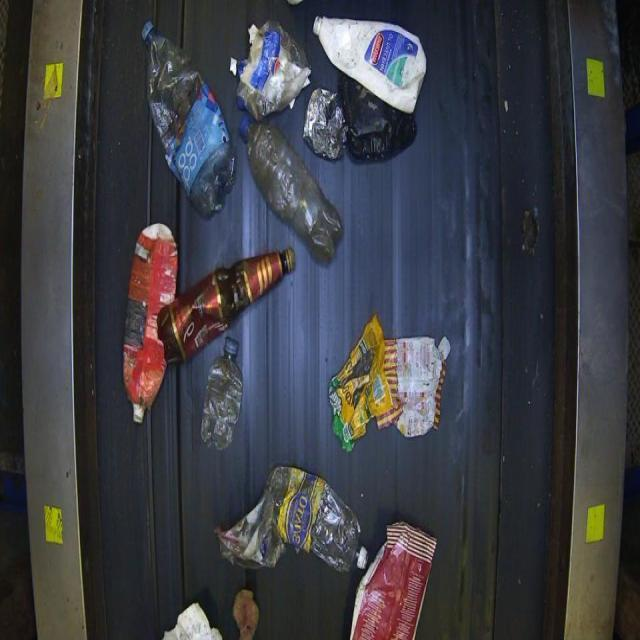bottles: (238, 113, 343, 262), (199, 335, 243, 451)
cups: (156, 245, 295, 365)
other-trash: (139, 19, 237, 218)
